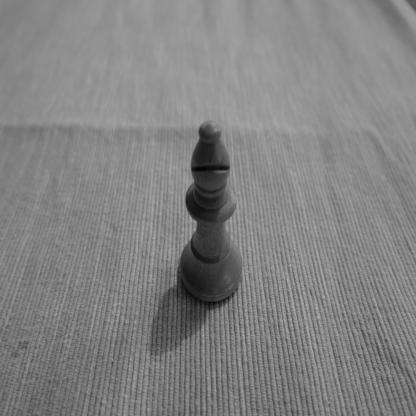white-bishop: (178, 118, 244, 305)
